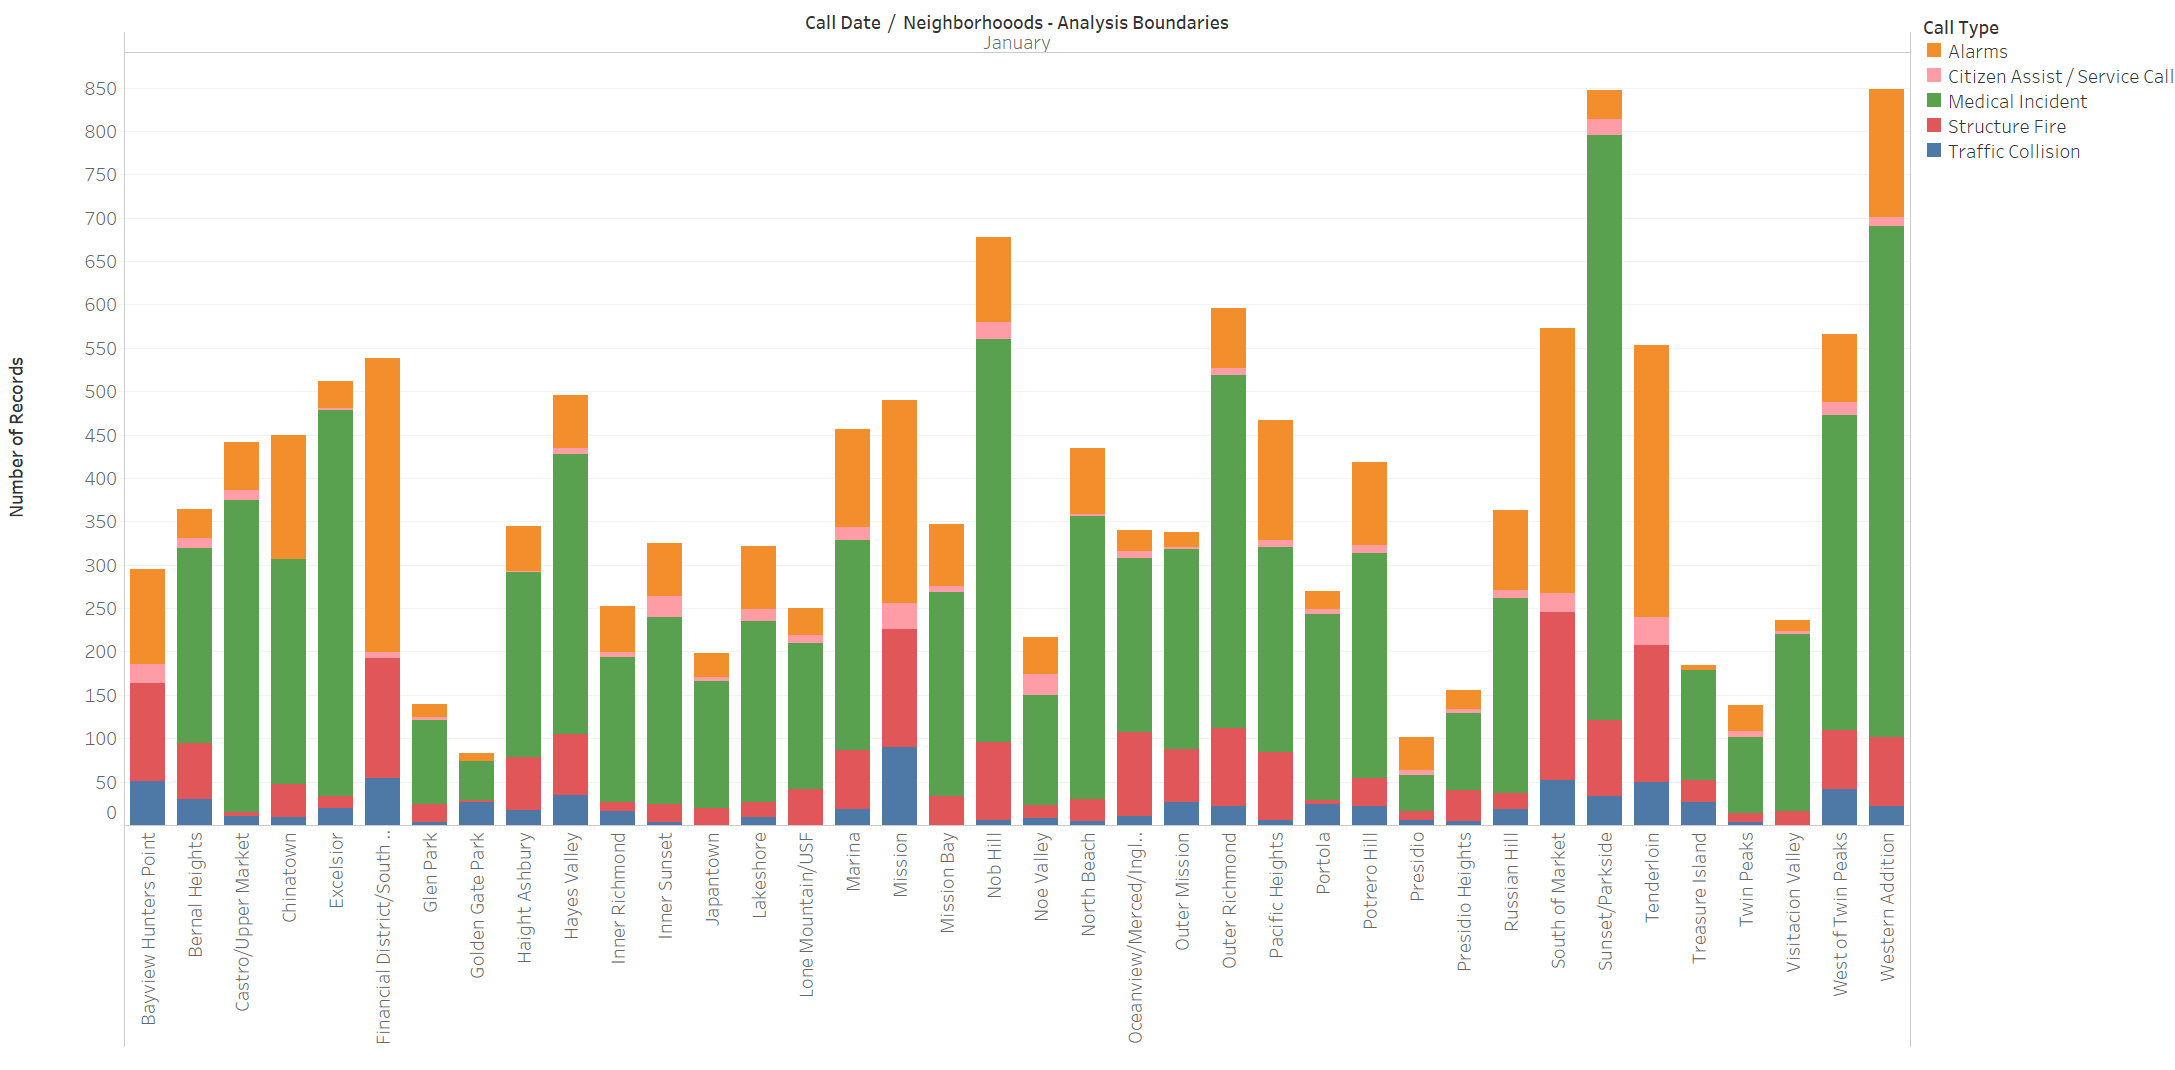

Layout of this report page (visuals, bound fields, positions):
{"tool":"tableau","page":{"name":"Dashboard 1","canvas":[1560,800],"ordinal":0},"visuals":[{"type":"worksheet","title":"Sheet 1","mark":"Automatic","rows":["Call Type"],"cols":["Neighborhooods - Analysis Boundaries"],"box":[8,8,1544,784]},{"type":"legend","title":"Sheet 1","param":"[federated.0zl60b91ssrl7314vuj1e0ls7oev].[avg:Calculation_735845996843577344:qk]","box":[1387,16,130,76]}]}

Visuals, with their boxes on the page's 1560x800 design canvas (x1, y1, x2, y2). These are canvas units, not pixel positions in the 2175x1070 screenshot, which may show the page scaled, cropped or inside an application window:
"Sheet 1" worksheet: (8, 8, 1552, 792)
"Sheet 1" legend: (1387, 16, 1517, 92)
